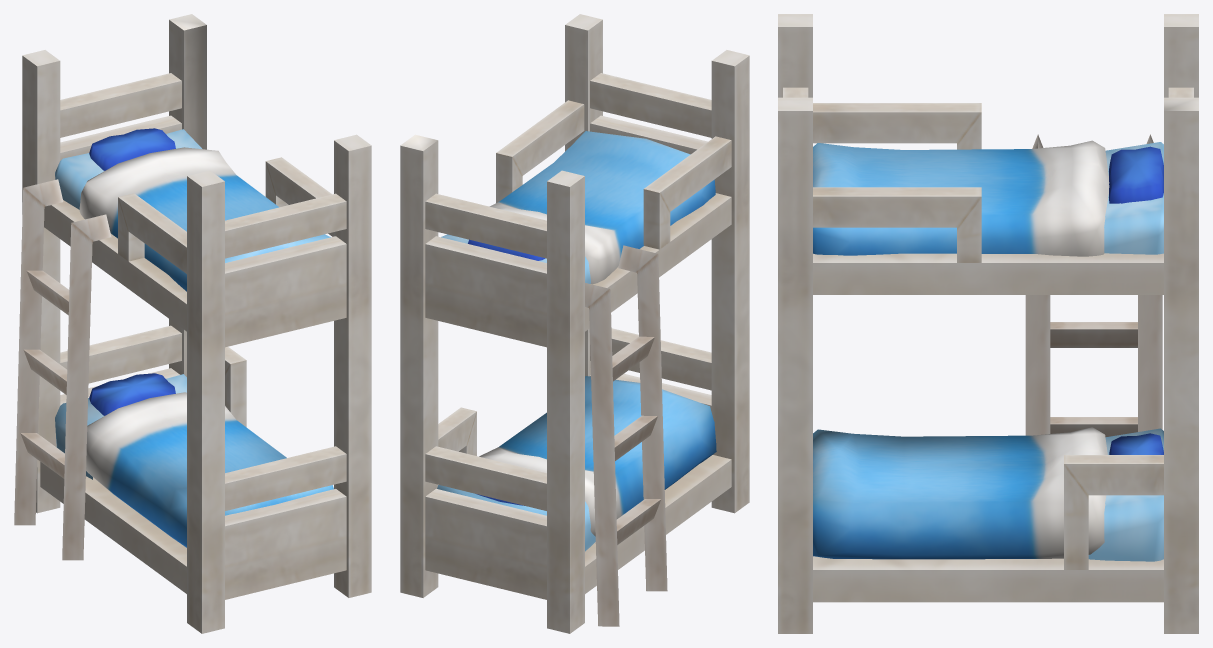
Rendered from BlueBed_HD.fbx.
3 views of the same model, side by side, from view 1: azimuth 30°, elevation 25°; view 2: azimuth 150°, elevation 25°; view 3: azimuth 270°, elevation 25° (orthographic). The views are drawn at different scales.
Parts seen in each view (by area): view 1: BlueBed; view 2: BlueBed; view 3: BlueBed.
Part boxes in pixels (box(x1,y1,x2,y2)): BlueBed: box(14, 14, 371, 633); BlueBed: box(400, 14, 749, 633); BlueBed: box(778, 14, 1198, 633).
Size of the model in its own units: 1.27 by 2.75 by 2.
